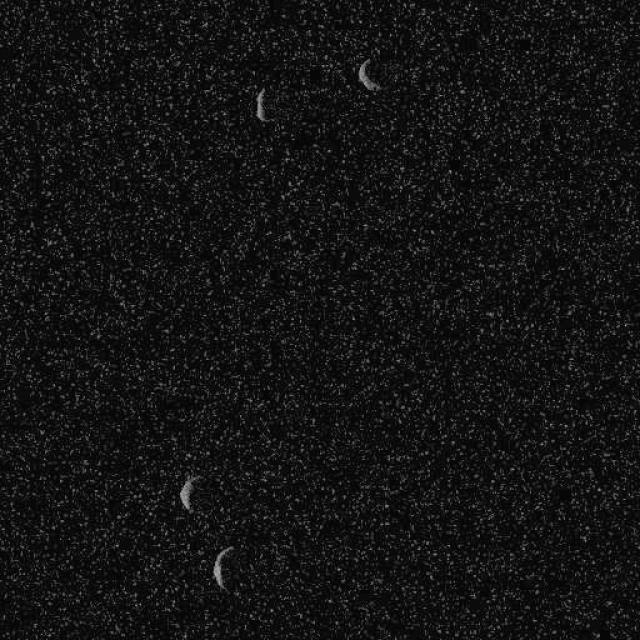D2: (211, 544, 235, 591), (356, 56, 382, 92), (179, 475, 196, 513), (254, 88, 268, 122)
